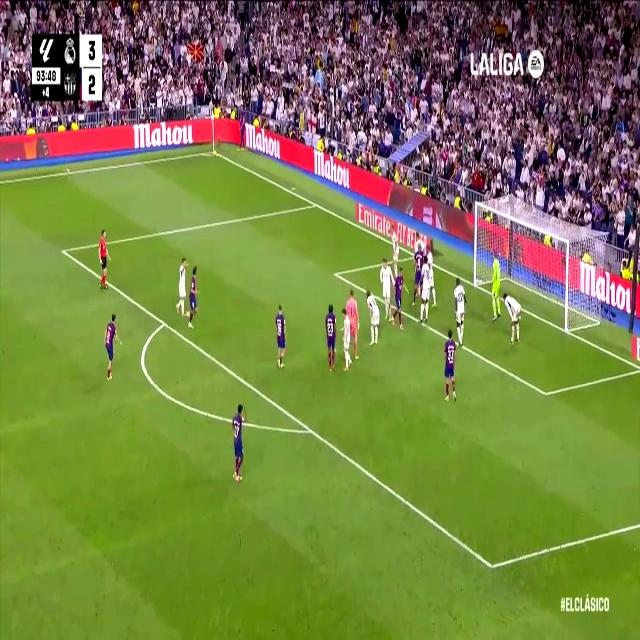bigarea_bottom_inner: (484, 546, 500, 584)
bigarea_top_inner: (58, 238, 68, 262)
bigarea_top_outter: (310, 195, 320, 212)
bottom_arc_area_intersection: (304, 416, 316, 443)
corner: (208, 144, 219, 157)
smallarea_bottom_inner: (541, 382, 551, 406)
smallarea_top_inner: (330, 262, 341, 284)
top_arc_area_intersection: (159, 312, 169, 333)
